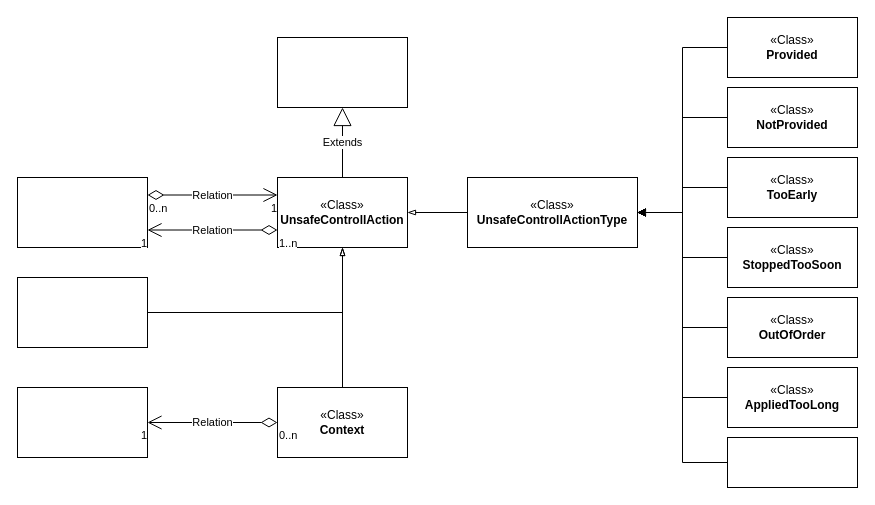
This 875x505 diagram has some shape labels left out. Each missing label, with the centre of its shape:
"«Class» ControllAction" belongs at pixel 342 72.
"«Class» Hazard" belongs at pixel 82 212.
"«Class» SafetyConstraint" belongs at pixel 82 312.
"«Class» TooLate" belongs at pixel 792 462.
"«Class» Variable" belongs at pixel 82 422.
